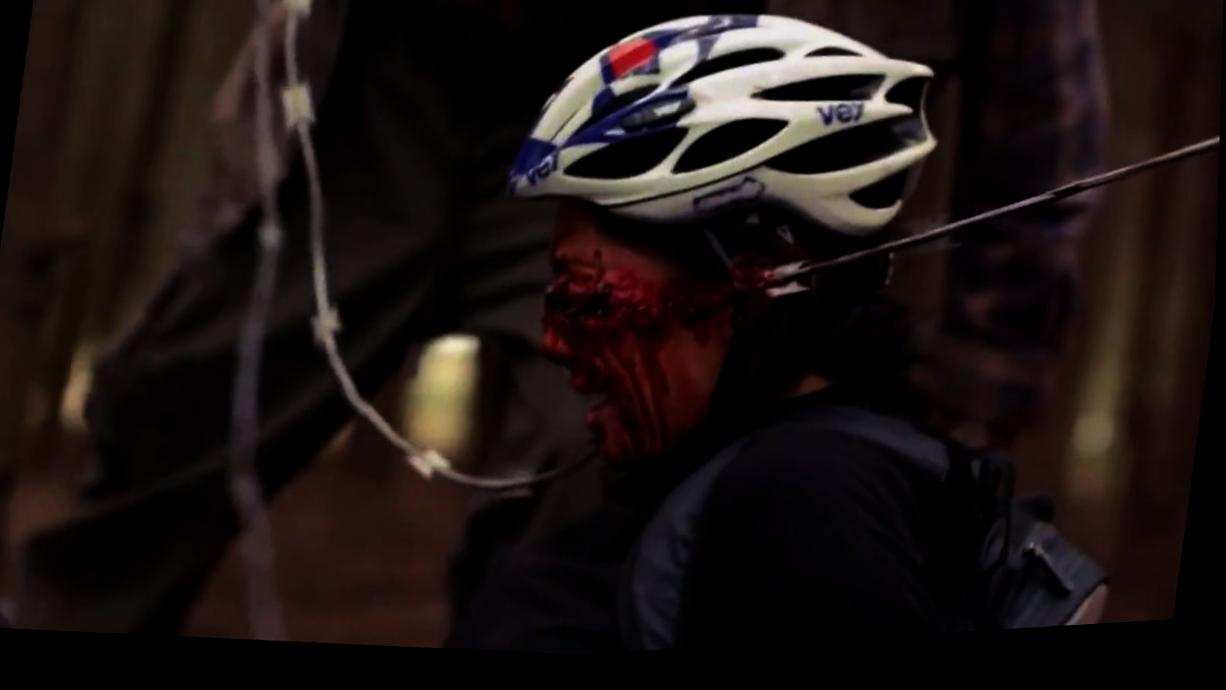Fire: (545, 206, 773, 477)
